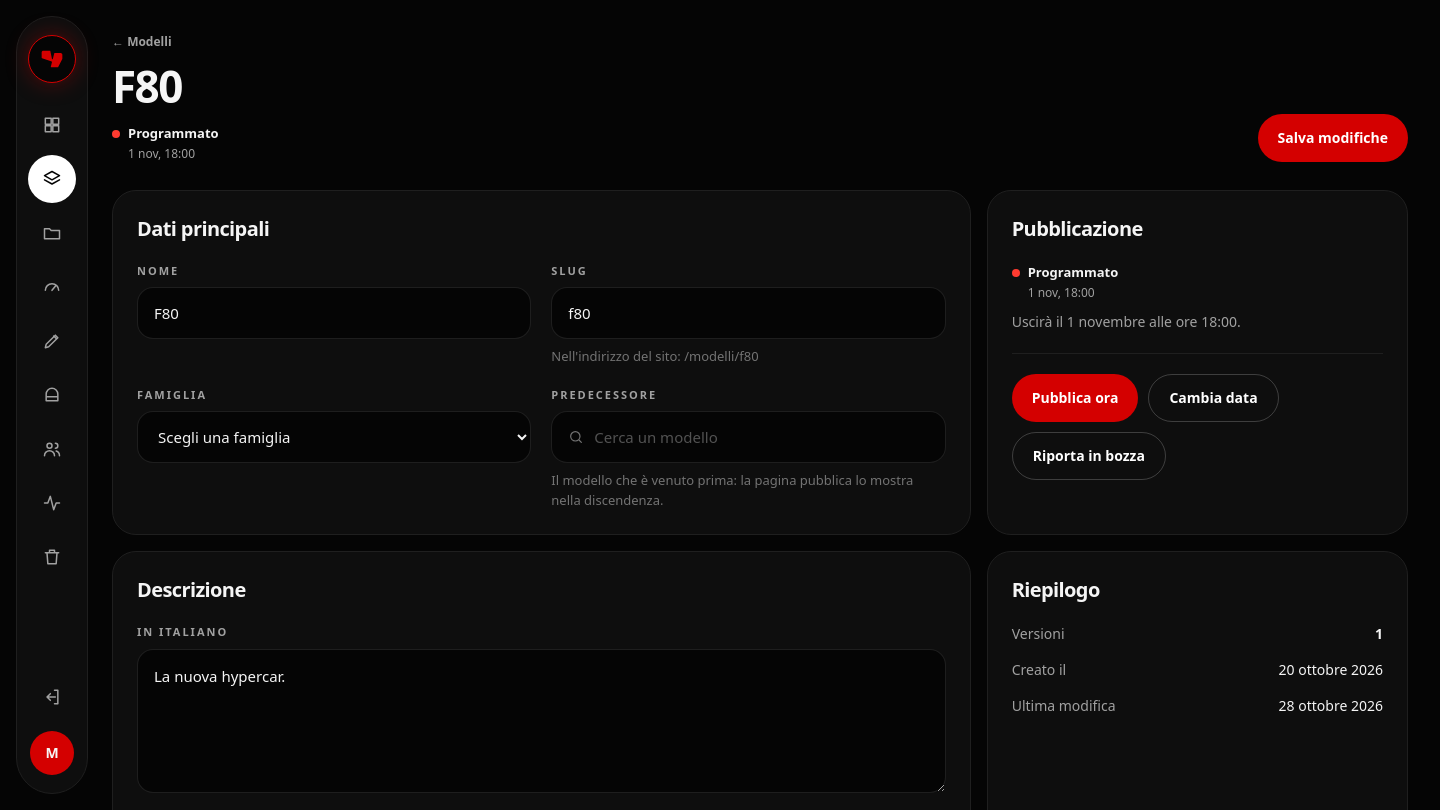
Scenario: programma una data, convertita per il server
Click the button "Cambia data" at [1214, 398], box [1148, 374, 1279, 422]
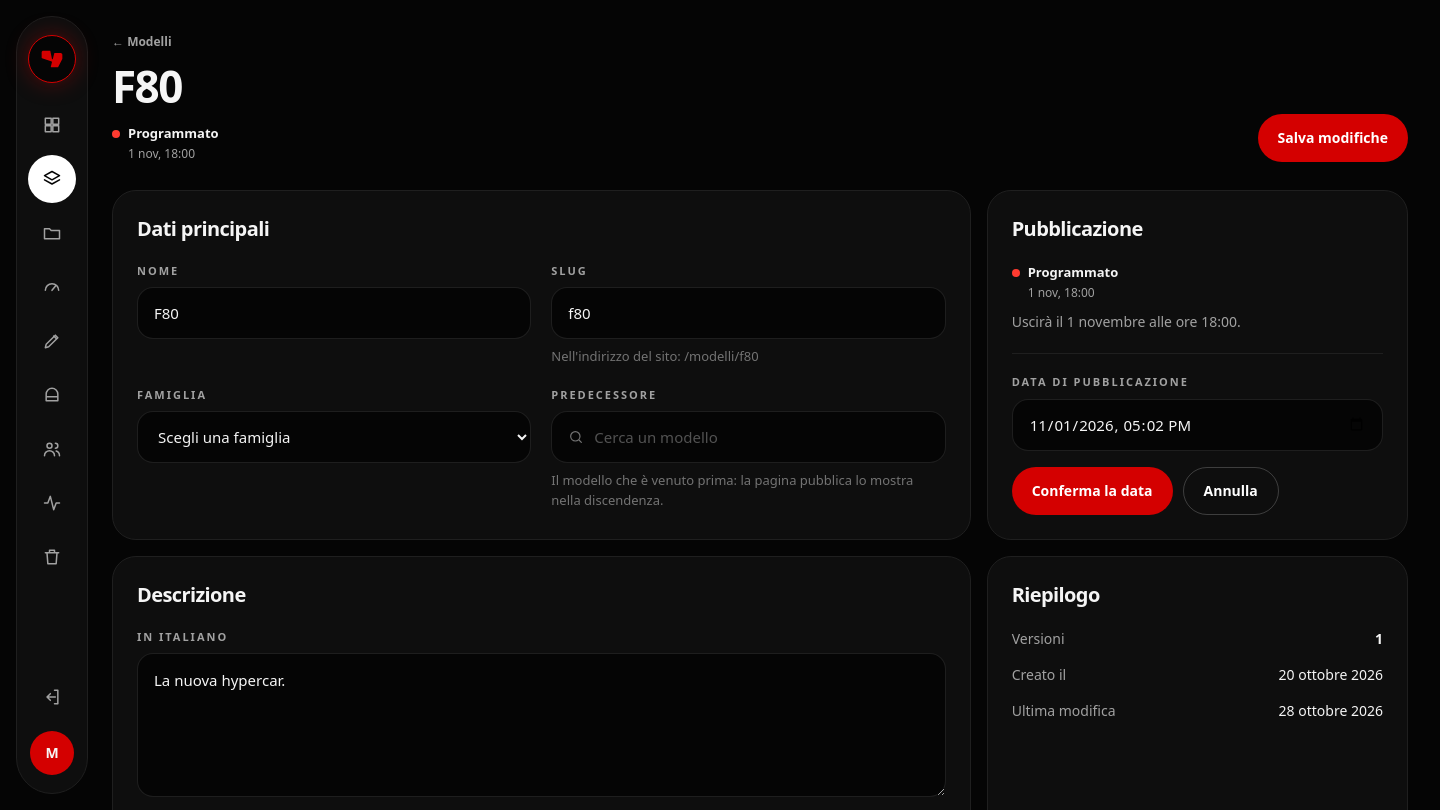
Replace the text in the field labelled "Data di pubblicazione" with "2030-01-15T09:30" at [1197, 425], box [1029, 400, 1366, 450]
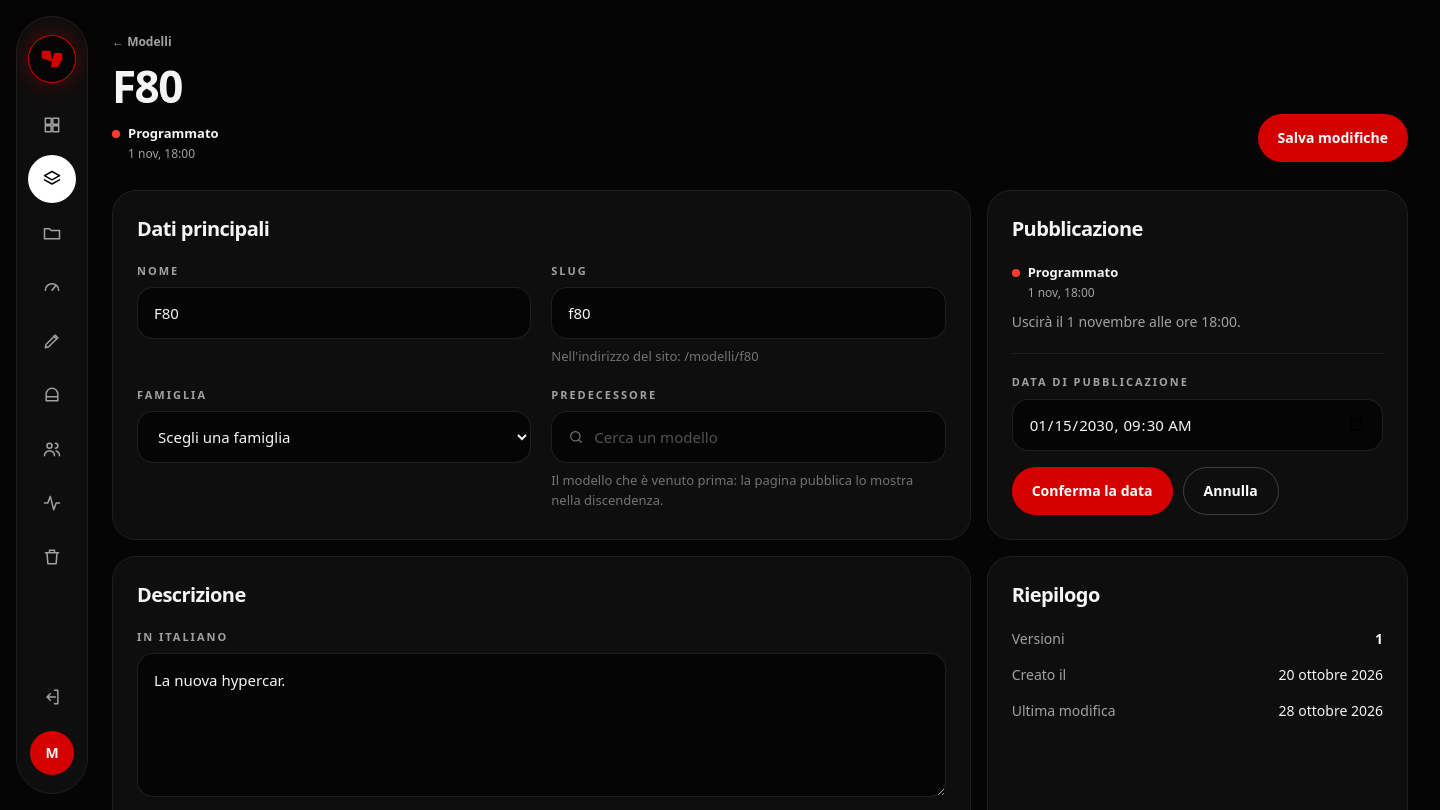
Click the button "Conferma la data" at [1092, 491], box [1012, 467, 1173, 515]
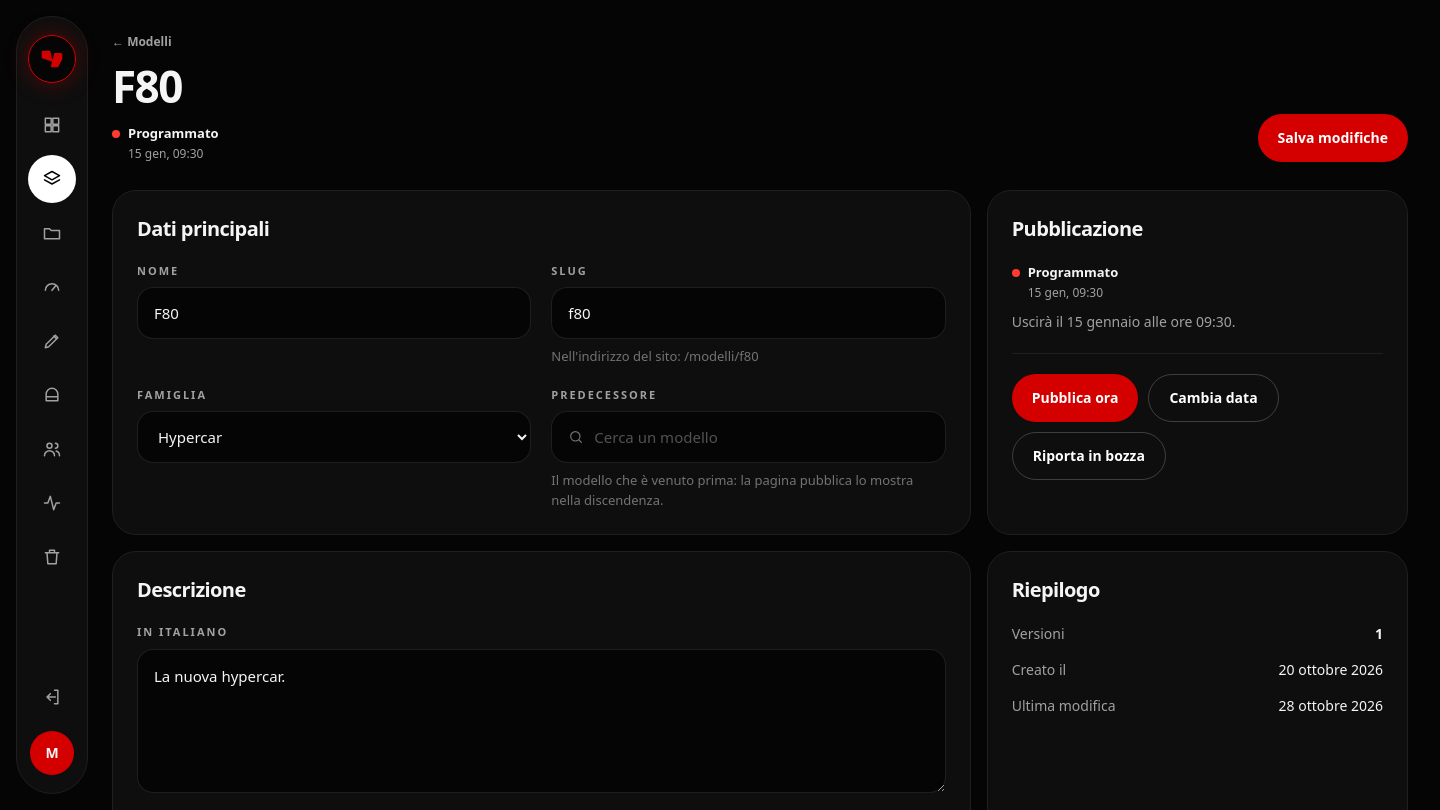
Result: the button "Pubblica ora" is shown at [1012, 374, 1138, 422]
